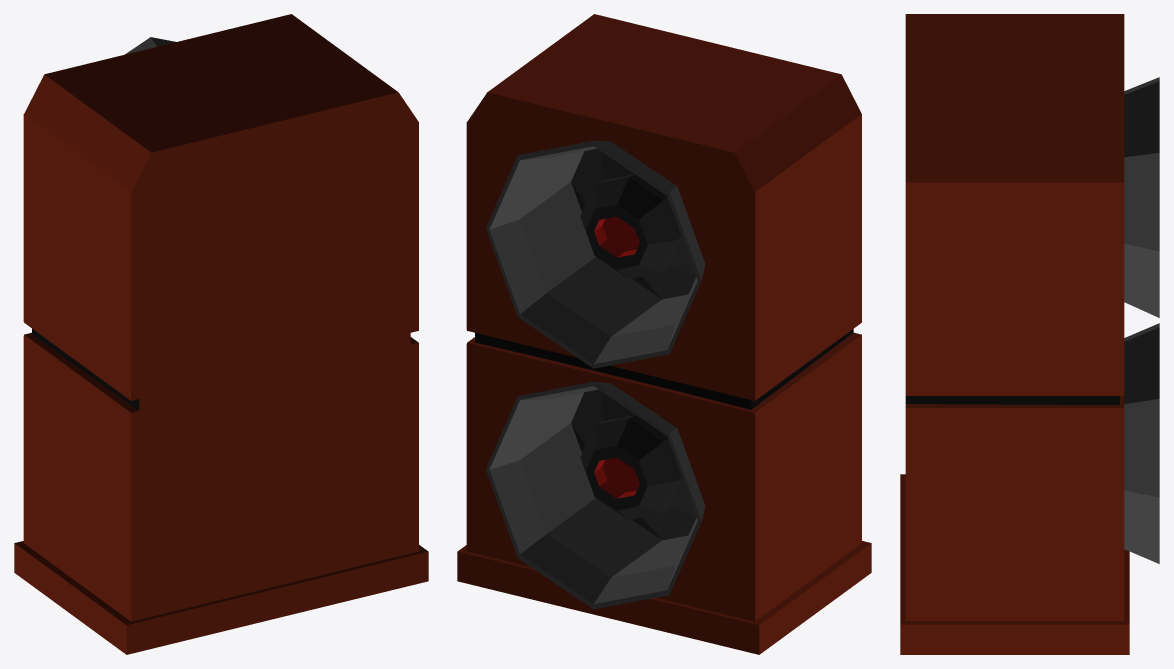
File: Speaker 2.fbx
The picture shows the model from 3 angles, left to right: view 1: azimuth 30°, elevation 25°; view 2: azimuth 150°, elevation 25°; view 3: azimuth 270°, elevation 25°; orthographic projection. The views are drawn at different scales.
Parts seen in each view (by area): view 1: Node 0; view 2: Node 0; view 3: Node 0.
Boxes of the visible parts, x1,y1,x2,y2 form: Node 0: (14,14,428,654); Node 0: (457,14,871,654); Node 0: (900,14,1159,654).
Size of the model in its own units: 0.2305 by 0.4942 by 0.3164.
